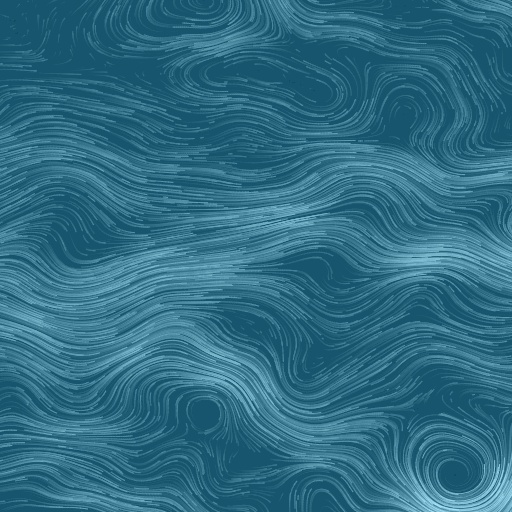eddy: (187, 44, 350, 120), (409, 428, 501, 508), (175, 387, 233, 439)
